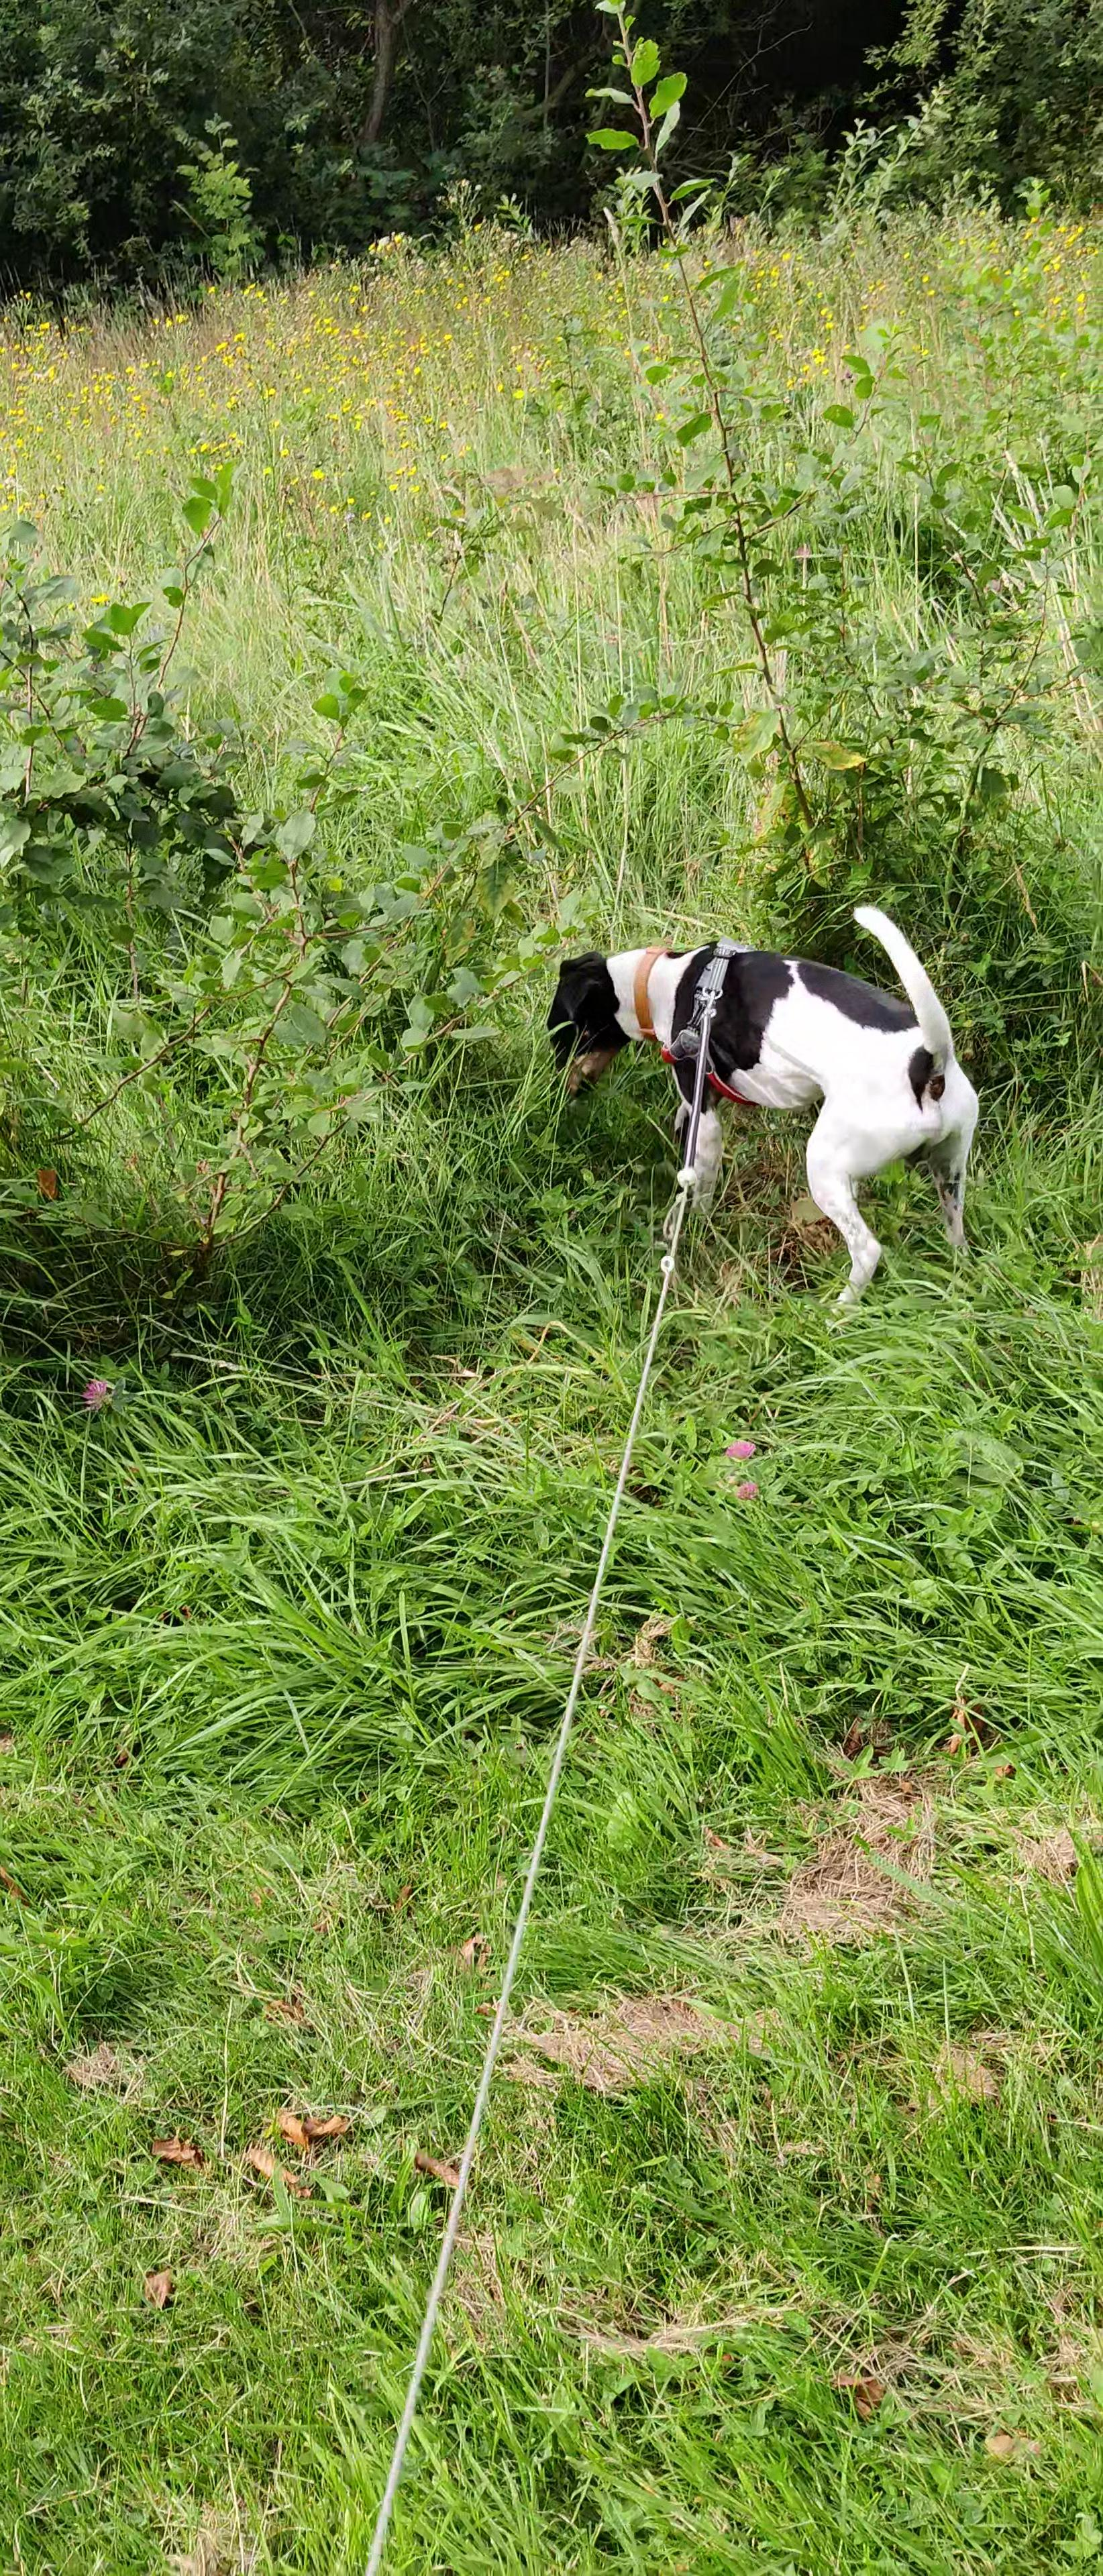Dog: (533, 869, 988, 1334)
